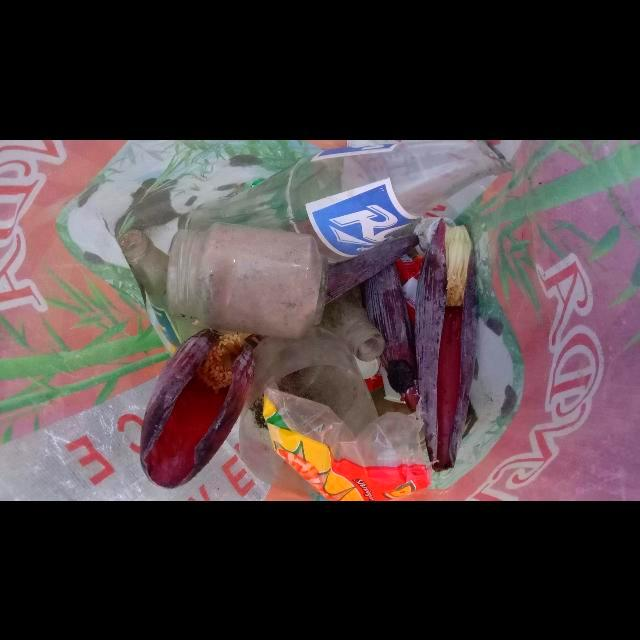food_wrapper: (263, 387, 431, 501)
glass_bottle: (178, 139, 515, 263), (167, 222, 329, 339), (118, 229, 182, 347), (317, 284, 385, 361)
